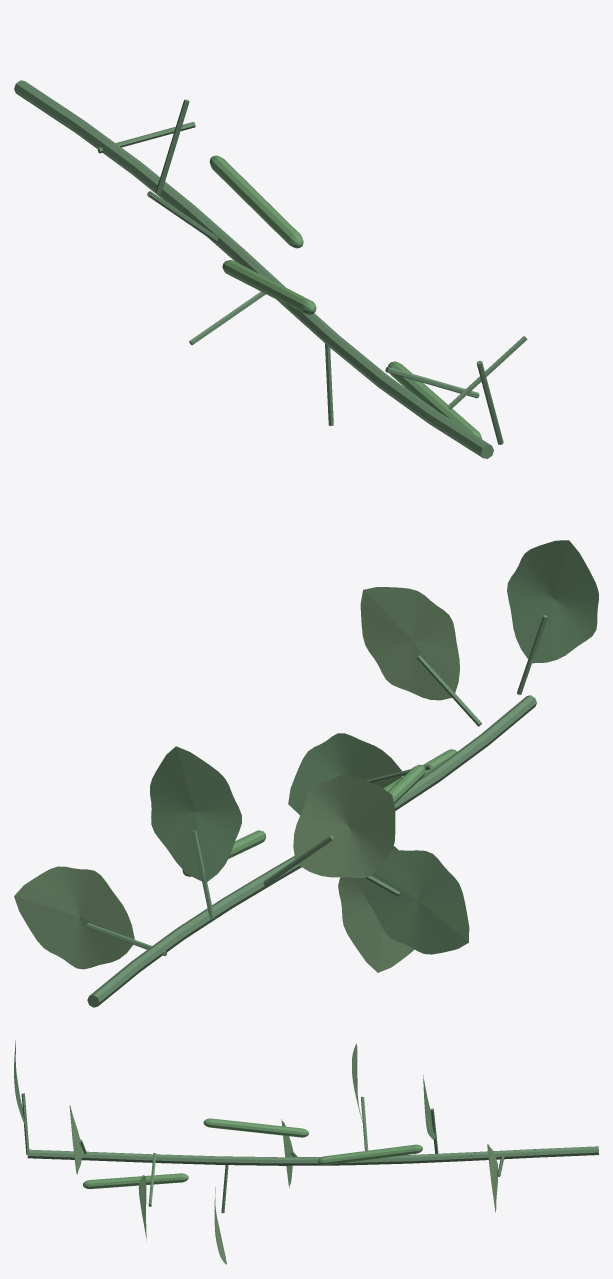
Rendered from cucumber_a.glb.
The picture shows the model from 3 angles, top to bottom: view 1: azimuth 30°, elevation 25°; view 2: azimuth 150°, elevation 25°; view 3: azimuth 270°, elevation 25°; orthographic projection. The views are drawn at different scales.
Parts seen in each view (by area): view 1: Stem, FruitGreen; view 2: Leaves, Stem, FruitGreen; view 3: Stem, FruitGreen, Leaves.
Boxes of the visible parts, x1,y1,x2,y2 form: Stem: (14,80,527,458); FruitGreen: (209,155,481,438); Leaves: (14,540,598,972); Stem: (86,615,547,1007); FruitGreen: (182,749,456,876); Stem: (21,1093,598,1213); FruitGreen: (83,1118,422,1189); Leaves: (14,1040,497,1264).
Size of the model in its own units: 0.7371 by 0.7561 by 1.85.
